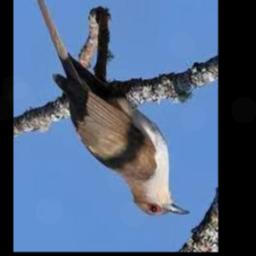Cuckoo: (31, 0, 190, 217)
